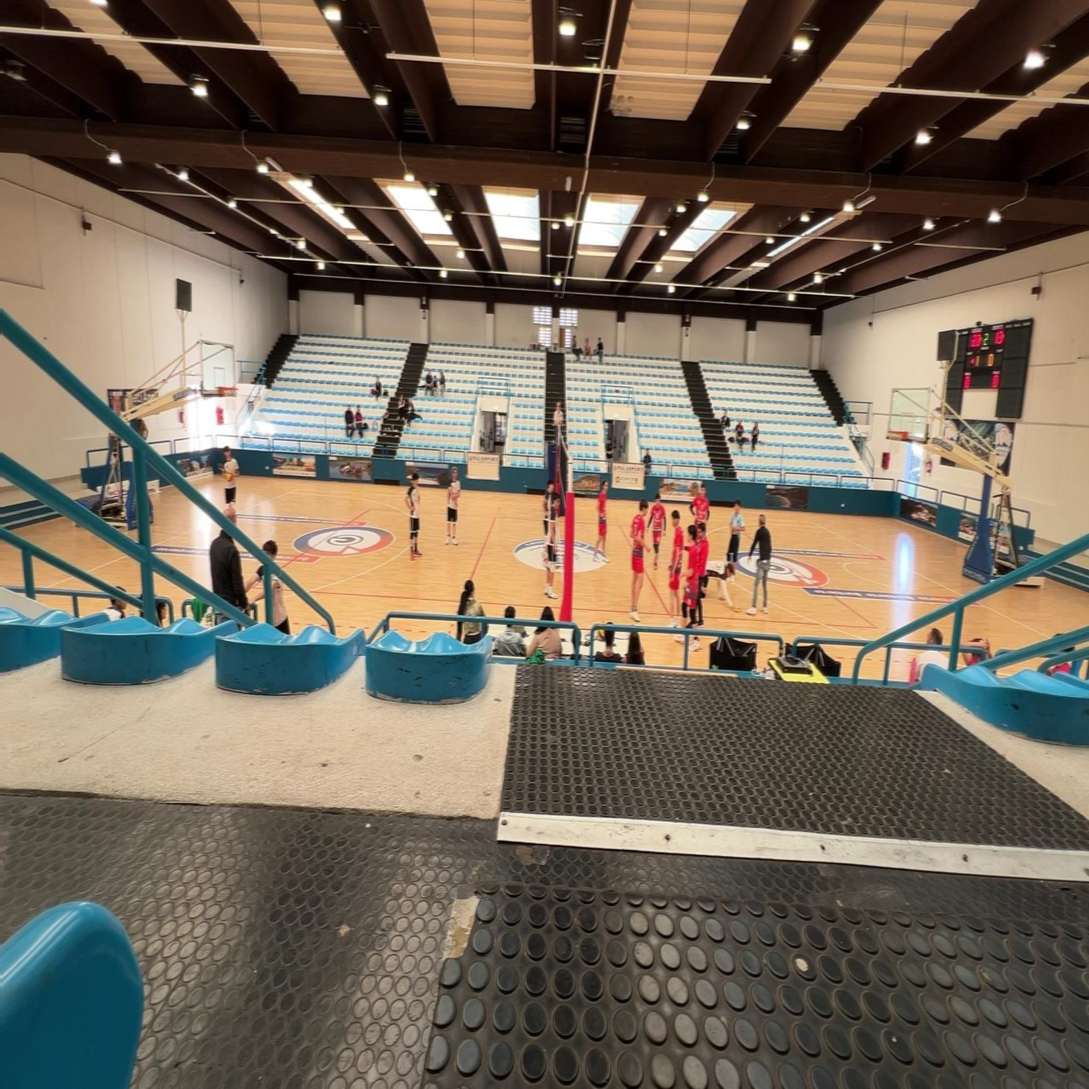ball: (225, 472, 231, 482)
